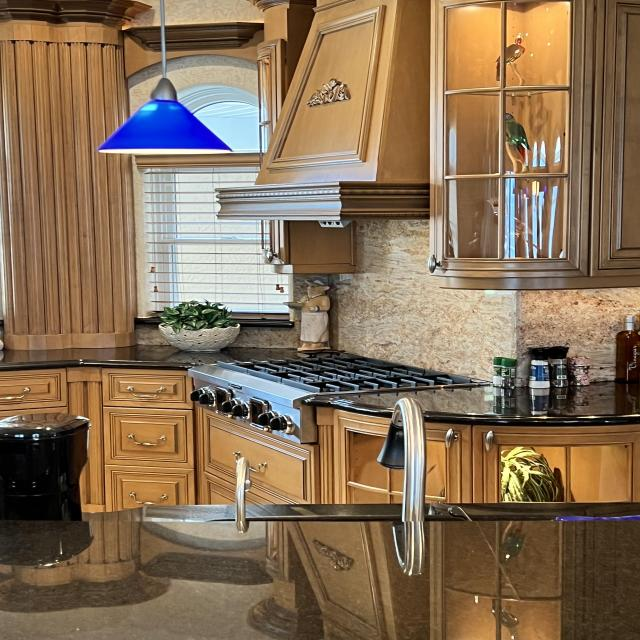Appliance_Sink: (376, 397, 426, 577), (233, 453, 248, 534)
Appliance_Stove: (188, 350, 474, 444)
Cabinet_Glass: (431, 0, 585, 287), (426, 421, 640, 503), (316, 407, 403, 504)
Cabinet_Raised_Panel: (0, 367, 315, 513)
Countertop_Granite: (0, 503, 640, 640)
Countertop_Solid_Surface: (345, 377, 614, 416), (4, 346, 297, 365)
